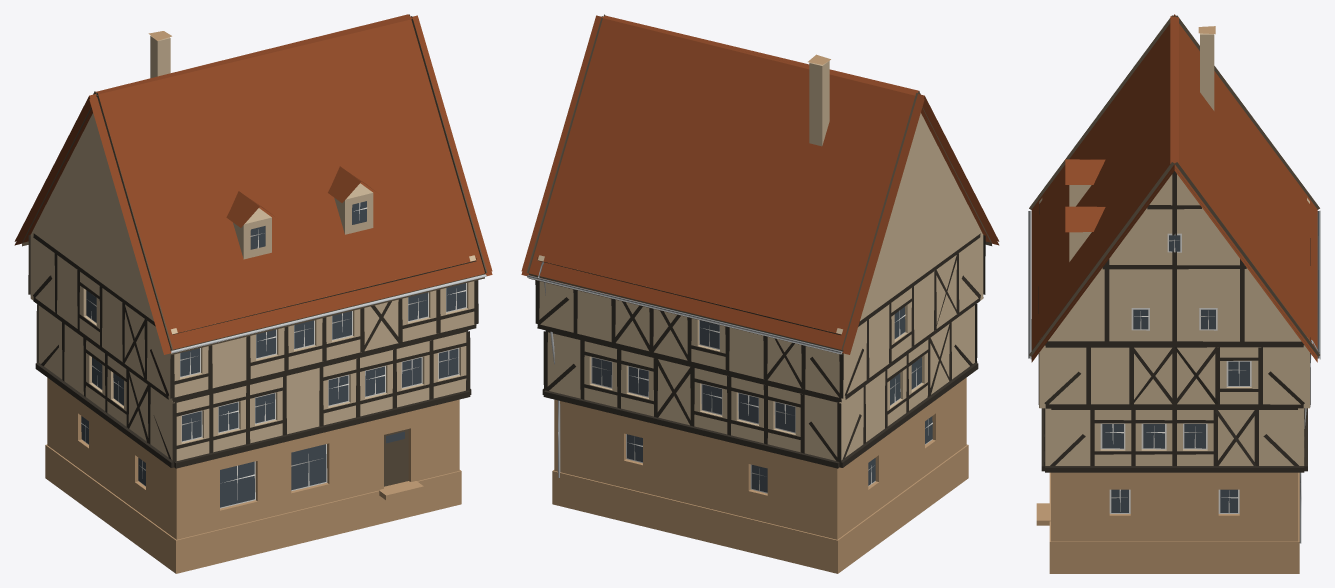
Rendered from oldtown-eave-3-lod1.glb.
The picture shows the model from 3 angles, left to right: view 1: azimuth 30°, elevation 25°; view 2: azimuth 150°, elevation 25°; view 3: azimuth 270°, elevation 25°; orthographic projection. The views are drawn at different scales.
Parts seen in each view (by area): view 1: oldtown-eave-3-plaster.001; view 2: oldtown-eave-3-plaster.001; view 3: oldtown-eave-3-plaster.001.
Part boxes in pixels (bbox=[...]): oldtown-eave-3-plaster.001: bbox=[14, 14, 492, 573]; oldtown-eave-3-plaster.001: bbox=[521, 14, 999, 573]; oldtown-eave-3-plaster.001: bbox=[1028, 14, 1320, 573].
Bounding box in the file's own units: 13.92 × 18.72 × 11.23.
